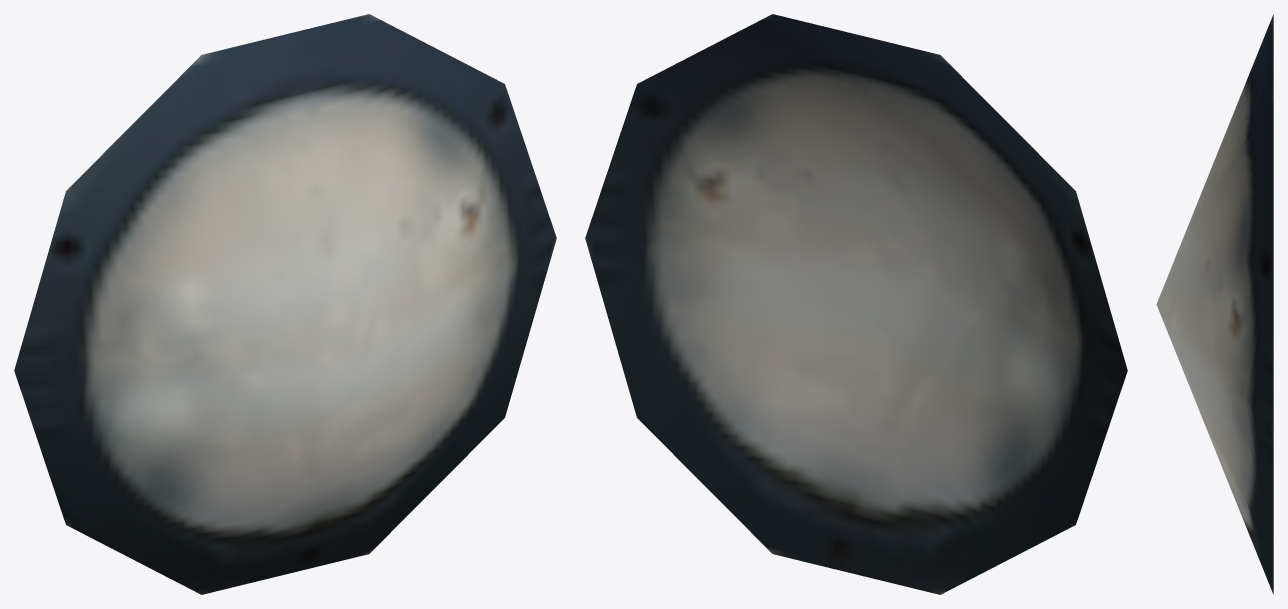
The model's file is Light-Can.fbx.
3 renders of one model, left to right at view 1: azimuth 30°, elevation 25°; view 2: azimuth 150°, elevation 25°; view 3: azimuth 270°, elevation 25°, orthographic. The views are drawn at different scales.
Parts seen in each view (by area): view 1: Light-Can; view 2: Light-Can; view 3: Light-Can.
Part boxes in pixels (x1=…): Light-Can: x1=14, y1=14, x2=556, y2=594; Light-Can: x1=585, y1=14, x2=1127, y2=594; Light-Can: x1=1156, y1=14, x2=1273, y2=594.
Bounding box in the file's own units: 25 × 23.78 × 5.
